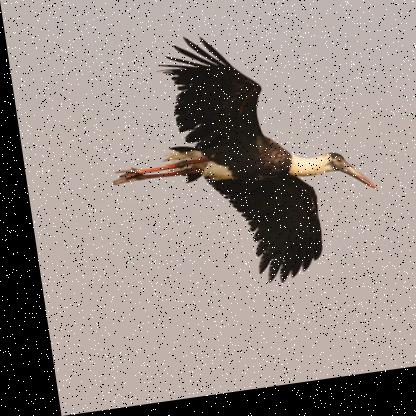Burung: (92, 23, 382, 309)
